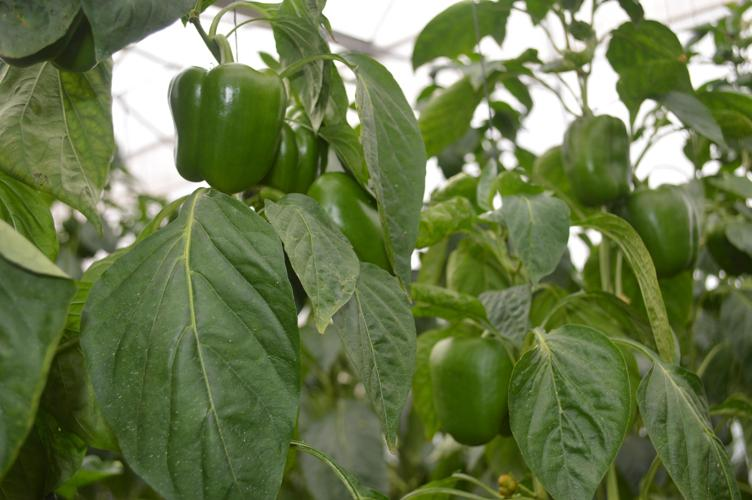BellPepper: (165, 58, 301, 194), (427, 337, 531, 441), (314, 179, 405, 270), (550, 117, 636, 203), (619, 181, 705, 267)
